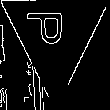P_E: (33, 18, 77, 55)
